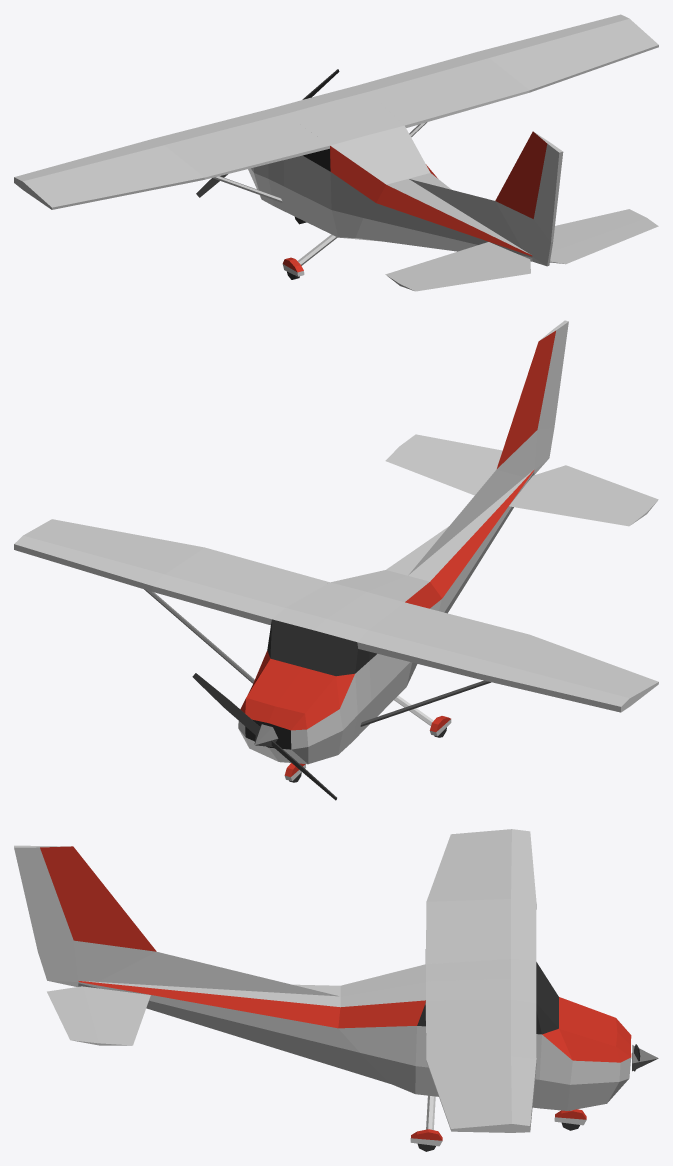
File: small-airplane-v3.gltf
3 views of the same model, one above another, from view 1: azimuth 30°, elevation 25°; view 2: azimuth 150°, elevation 25°; view 3: azimuth 270°, elevation 25° (orthographic). The views are drawn at different scales.
Visible parts, largest first — view 1: node-0; view 2: node-0; view 3: node-0.
Part boxes in pixels (<box>): node-0: <box>14,14,658,291</box>; node-0: <box>14,320,658,800</box>; node-0: <box>14,829,658,1151</box>.
Bounding box in the file's own units: 11.07 × 4.67 × 9.73.
